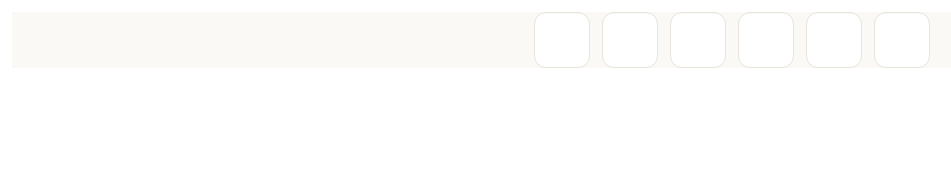
Test: OtpInput › accepte un code collé
Click the field named "Code 1/6" at [562, 40], box [534,12,590,68]
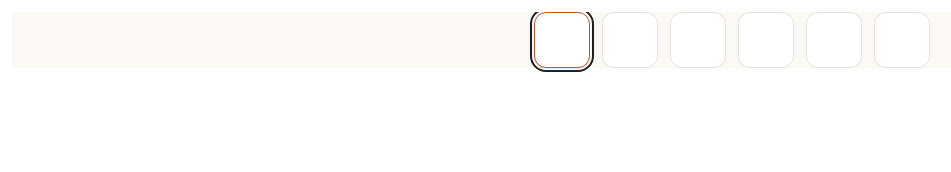
Type keys "310 305"
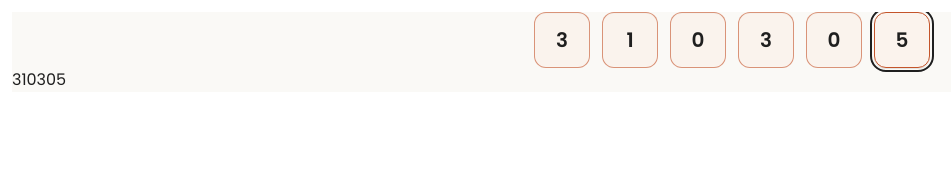
Check: the text with test id "value" reads "310305", box [12,68,66,91]
